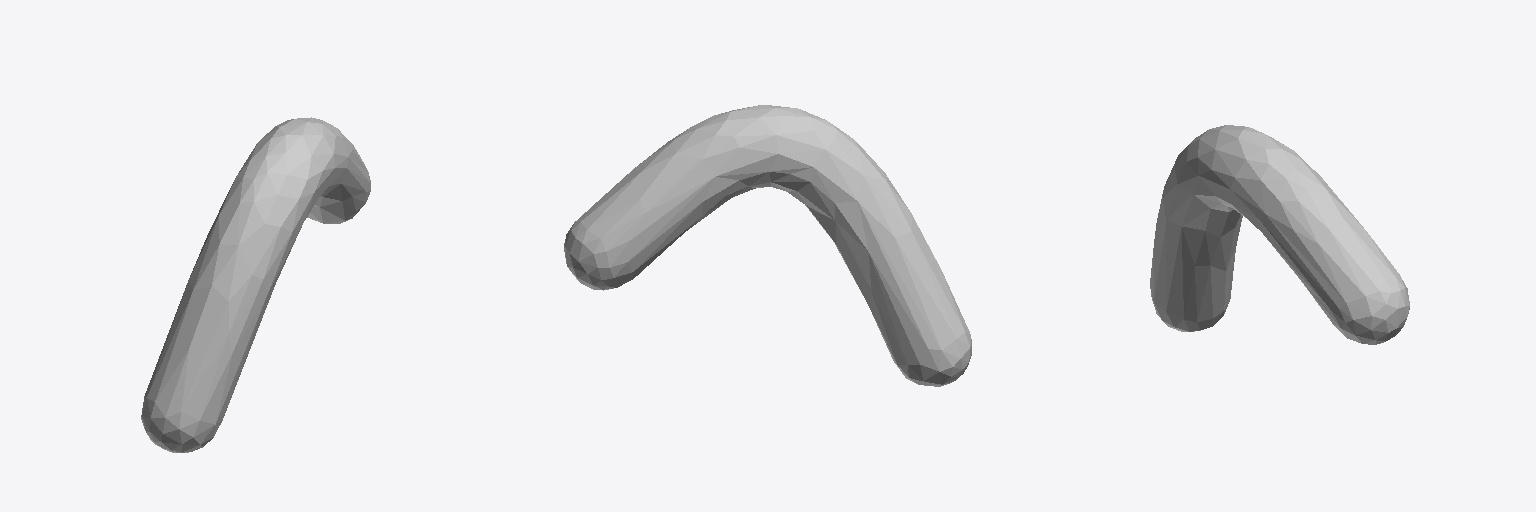
File: left common interosseous artery.obj
3 renders of one model, left to right at view 1: azimuth 30°, elevation 25°; view 2: azimuth 150°, elevation 25°; view 3: azimuth 270°, elevation 25°, orthographic.
Parts seen in each view (by area): view 1: grp1; view 2: grp1; view 3: grp1.
Part boxes in pixels (x1,y1,x2,y2): grp1: (141,117,370,452); grp1: (564,105,971,386); grp1: (1150,125,1409,344).
Bounding box in the file's own units: 11.04 × 9.02 × 8.08.